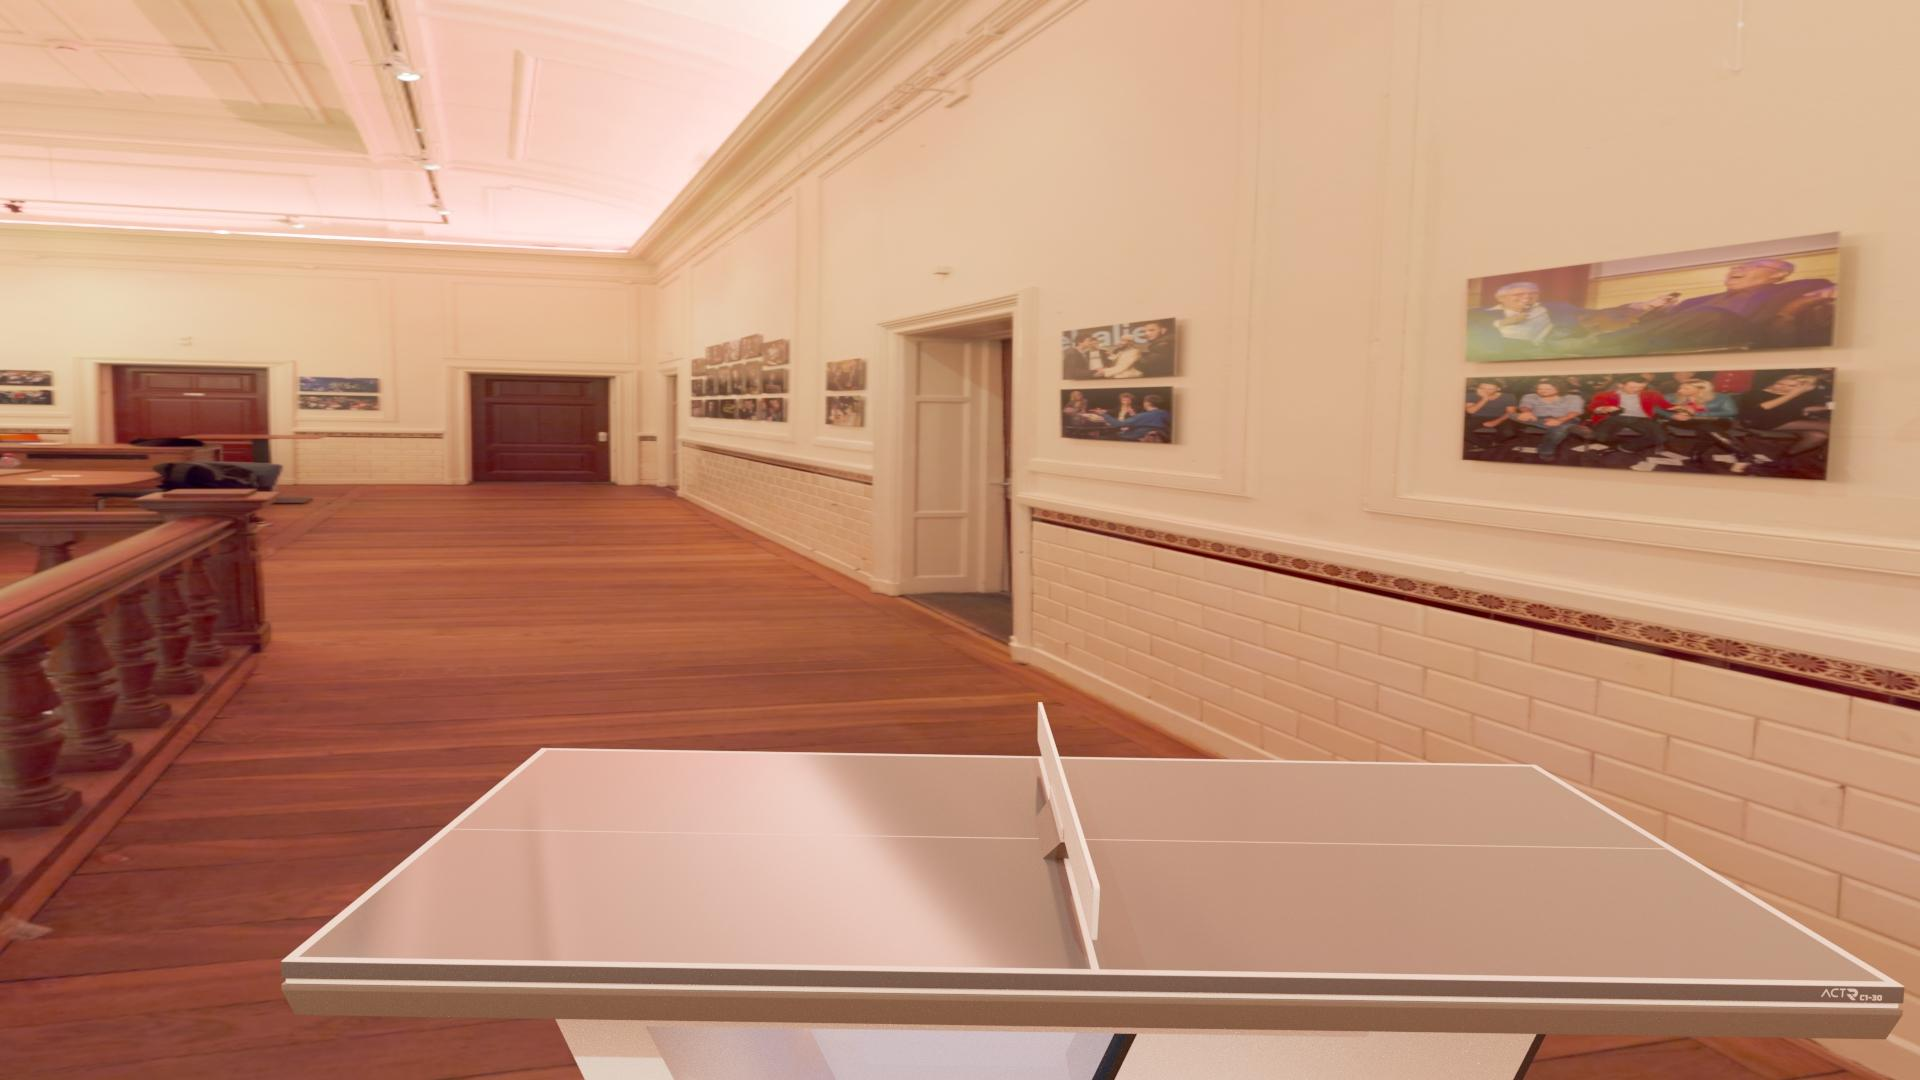table: (298, 750, 1886, 981)
